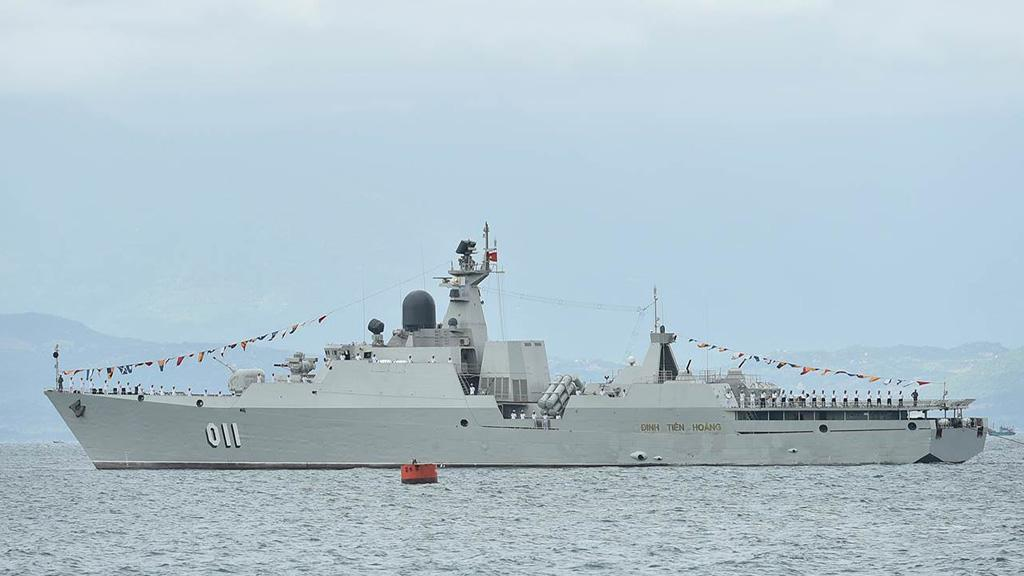MIL_Ship: (39, 216, 987, 473)
